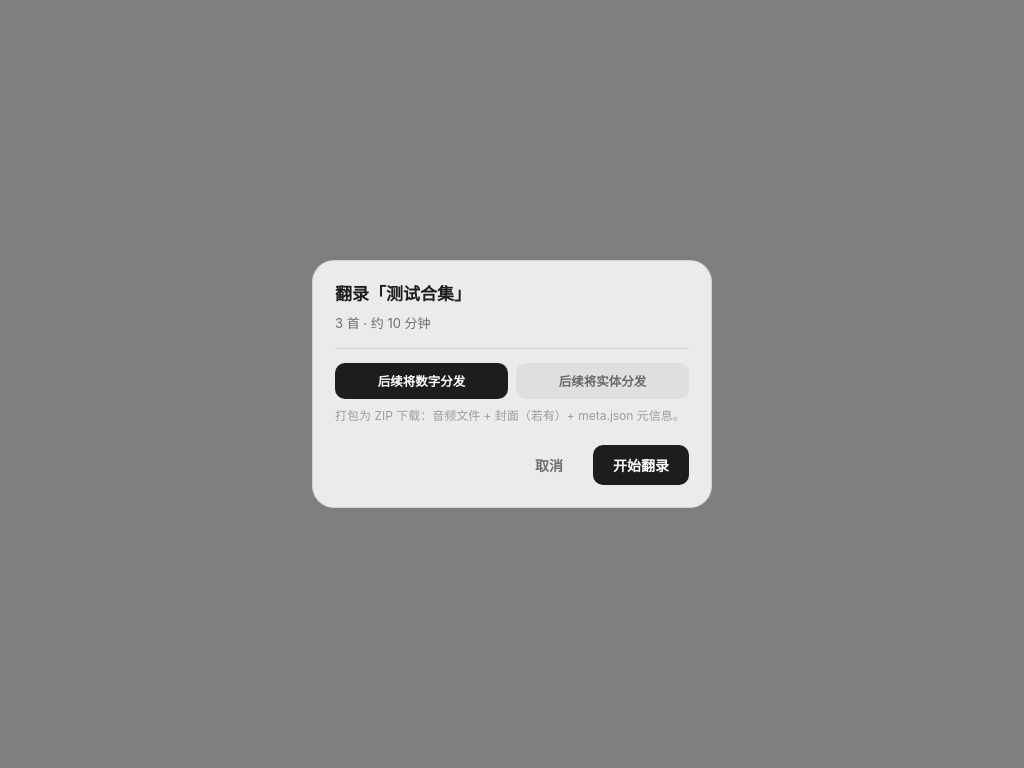
Test: RipDialog › 介质不支持音频 CD：禁用并给原因（IsCurrentMediaSupported 口径）
Click the radio button with test id "rip-dist-physical" at (602, 381), box top-left (516, 363), bottom-right (689, 399)
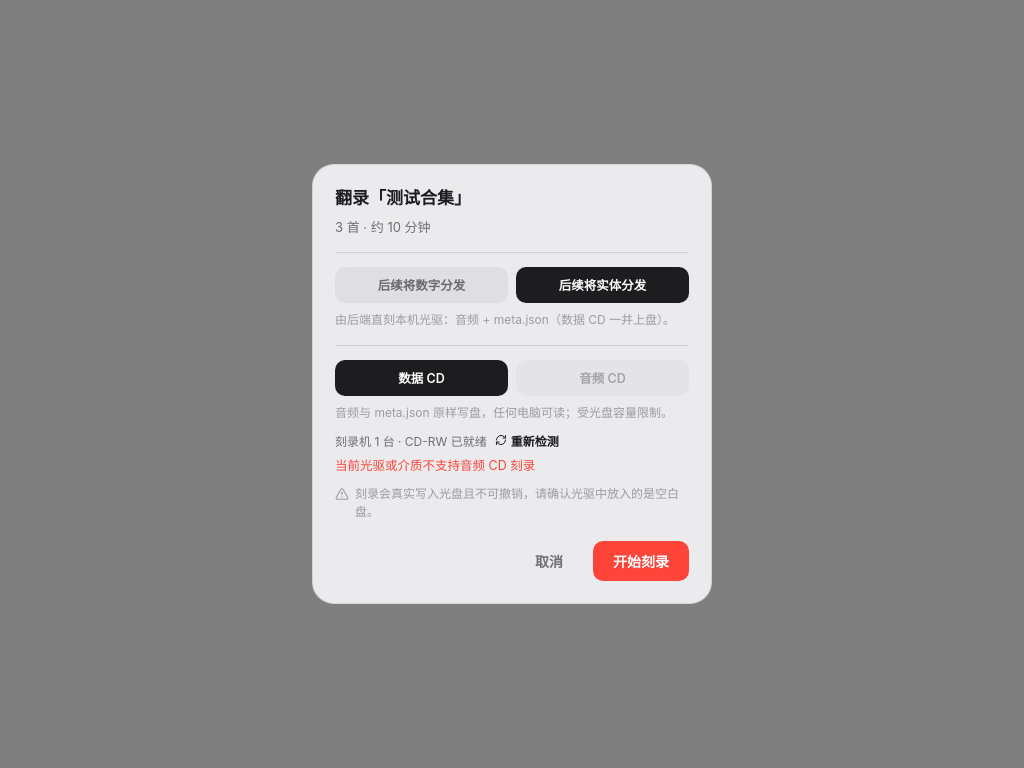
Result: the element with test id "rip-caps" shows "刻录机 1 台" at top-left (335, 434), bottom-right (487, 448)
Result: the radio button with test id "rip-disc-audio" is disabled at top-left (516, 360), bottom-right (689, 396)
Result: the text with test id "rip-audio-reason" shows "不支持音频 CD 刻录" at top-left (335, 458), bottom-right (535, 472)
